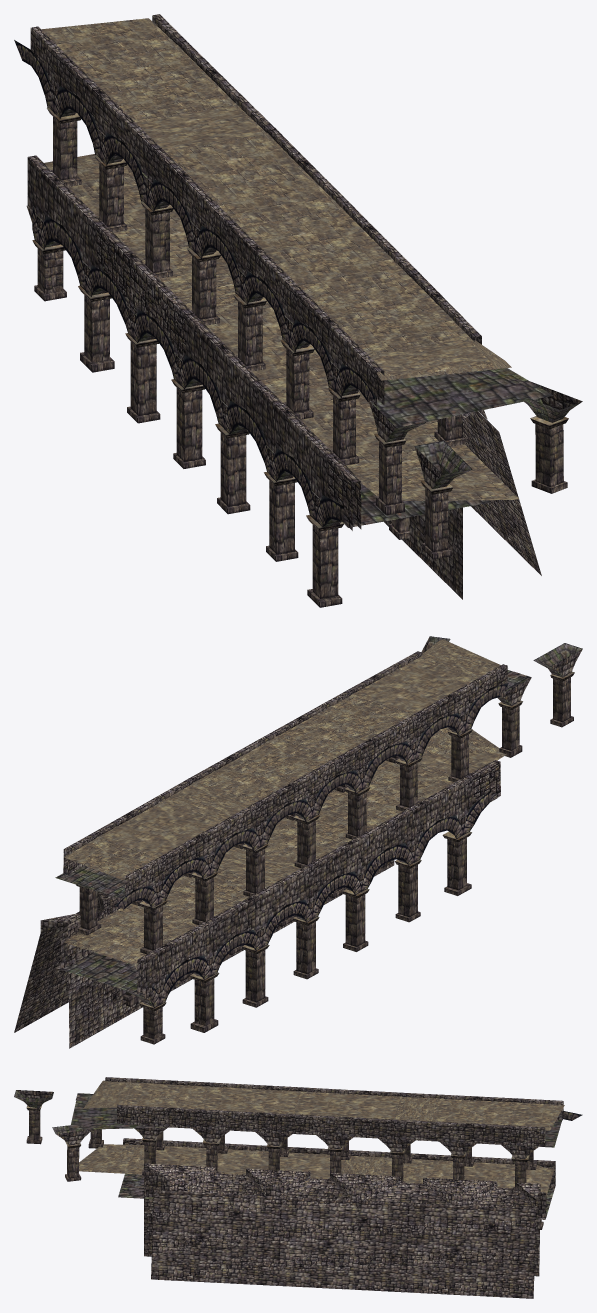
Rendered from fort_colonnade_kings.fbx.
3 renders of one model, top to bottom at view 1: azimuth 30°, elevation 25°; view 2: azimuth 150°, elevation 25°; view 3: azimuth 270°, elevation 25°, orthographic. The views are drawn at different scales.
Visible parts, largest first — view 1: bridge_columned_geometry4_top_floor1, bridge_columned_geometry3_top_sidewall_left3, bridge_columned_geometry5_top_floor1, bridge_columned_geometry4_top_sidewall_left3, CastleWall14, top2_underneth1, bridge_columned_geometry4_top_sidewall_right1, column125, column126, column124, column128, column127 (+28 smaller); view 2: bridge_columned_geometry4_top_floor1, bridge_columned_geometry5_top_floor1, bridge_columned_geometry3_top_sidewall_left3, bridge_columned_geometry4_top_sidewall_left3, CastleWall14, bridge_columned_geometry4_top_sidewall_right1, bridge_columned_geometry3_top_underneth1, top2_underneth1, column124, column126, column125, column127 (+28 smaller); view 3: CastleWall14, bridge_columned_geometry4_top_floor1, bridge_columned_geometry4_top_sidewall_right1, bridge_columned_geometry5_top_floor1, bridge_columned_geometry4_top_sidewall_left3, bridge_columned_geometry3_top_sidewall_left3, top2_underneth1, bridge_columned_geometry3_top_underneth1, bridge_columned_geometry3_top_sidewall_right1, archtop_85, archtop_78, column99 (+7 smaller).
Boxes of the visible parts, x1=… form: bridge_columned_geometry4_top_floor1: x1=41, y1=18, x2=511, y2=380; bridge_columned_geometry3_top_sidewall_left3: x1=27, y1=155, x2=361, y2=530; bridge_columned_geometry5_top_floor1: x1=44, y1=154, x2=518, y2=501; bridge_columned_geometry4_top_sidewall_left3: x1=30, y1=26, x2=384, y2=406; CastleWall14: x1=384, y1=410, x2=541, y2=599; top2_underneth1: x1=96, y1=127, x2=553, y2=427; bridge_columned_geometry4_top_sidewall_right1: x1=152, y1=14, x2=481, y2=344; column125: x1=176, y1=388, x2=202, y2=461; column126: x1=220, y1=432, x2=246, y2=506; column124: x1=130, y1=341, x2=156, y2=415; column128: x1=312, y1=525, x2=338, y2=598; column127: x1=269, y1=480, x2=294, y2=554; bridge_columned_geometry4_top_floor1: x1=64, y1=639, x2=500, y2=880; bridge_columned_geometry5_top_floor1: x1=63, y1=727, x2=506, y2=969; bridge_columned_geometry3_top_sidewall_left3: x1=137, y1=760, x2=500, y2=995; bridge_columned_geometry4_top_sidewall_left3: x1=124, y1=664, x2=507, y2=896; CastleWall14: x1=14, y1=860, x2=394, y2=1048; bridge_columned_geometry4_top_sidewall_right1: x1=63, y1=651, x2=422, y2=874; bridge_columned_geometry3_top_underneth1: x1=56, y1=798, x2=497, y2=995; top2_underneth1: x1=55, y1=646, x2=531, y2=899; column124: x1=245, y1=950, x2=265, y2=1002; column126: x1=345, y1=894, x2=365, y2=946; column125: x1=296, y1=921, x2=315, y2=974; column127: x1=398, y1=864, x2=417, y2=917; CastleWall14: x1=144, y1=1163, x2=540, y2=1298; bridge_columned_geometry4_top_floor1: x1=83, y1=1080, x2=564, y2=1130; bridge_columned_geometry4_top_sidewall_right1: x1=117, y1=1105, x2=545, y2=1146; bridge_columned_geometry5_top_floor1: x1=79, y1=1144, x2=554, y2=1196; bridge_columned_geometry4_top_sidewall_left3: x1=105, y1=1077, x2=563, y2=1120; bridge_columned_geometry3_top_sidewall_left3: x1=123, y1=1138, x2=555, y2=1188; top2_underneth1: x1=69, y1=1093, x2=561, y2=1147; bridge_columned_geometry3_top_underneth1: x1=118, y1=1173, x2=555, y2=1219; bridge_columned_geometry3_top_sidewall_right1: x1=146, y1=1171, x2=546, y2=1217; archtop_85: x1=14, y1=1090, x2=53, y2=1108; archtop_78: x1=52, y1=1125, x2=92, y2=1145; column99: x1=67, y1=1146, x2=79, y2=1178.
Bounding box in the file's own units: 8209 × 7371 × 25447.
5 materials, 5 textured.
